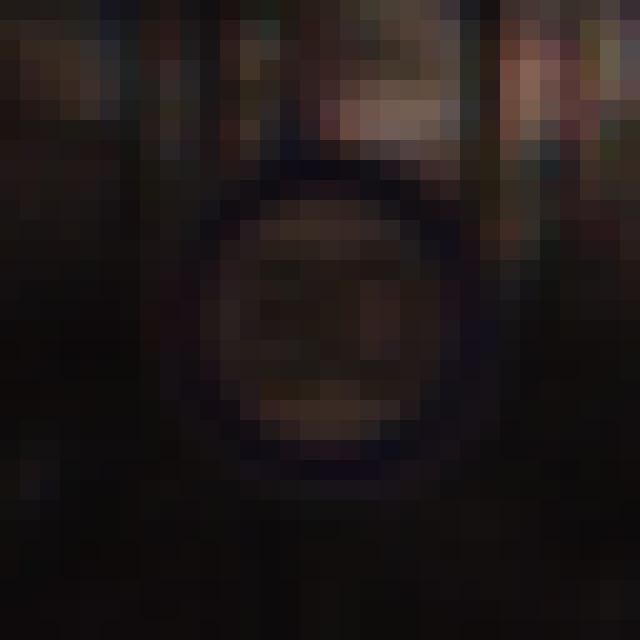SPEED-LIMIT-80: (180, 165, 470, 471)
